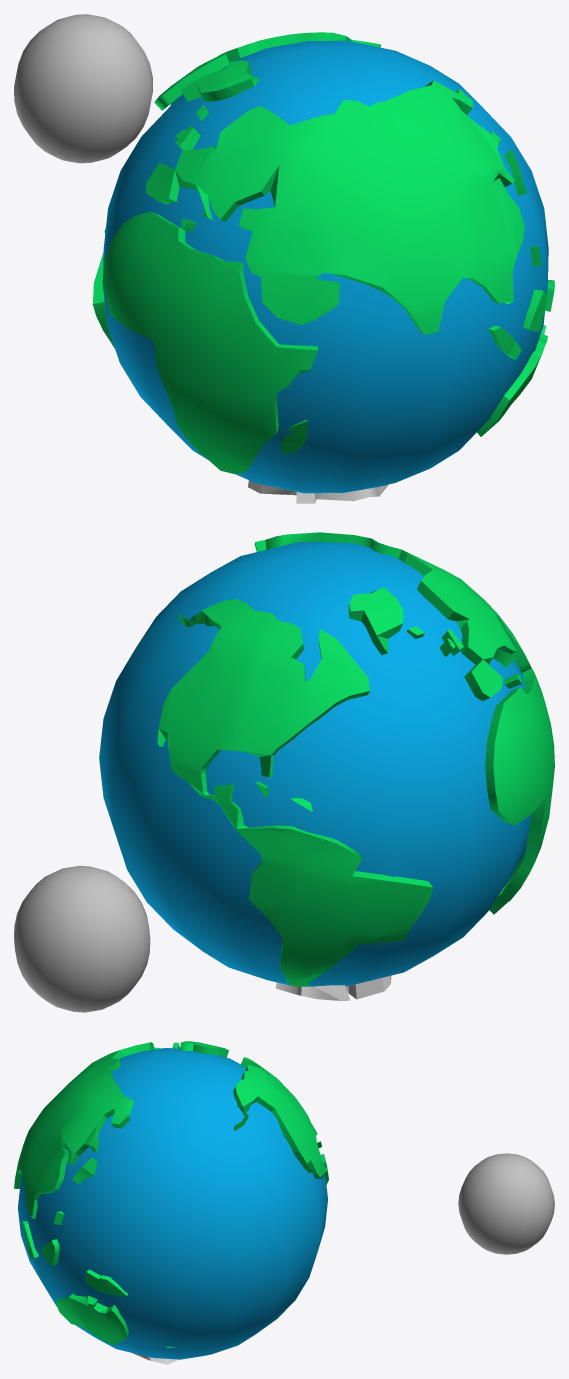
The model's file is mesh_earth.fbx.
3 renders of one model, top to bottom at view 1: azimuth 30°, elevation 25°; view 2: azimuth 150°, elevation 25°; view 3: azimuth 270°, elevation 25°, orthographic. The views are drawn at different scales.
Parts seen in each view (by area): view 1: earthmesh:polySurface68, moon:polySurface11; view 2: earthmesh:polySurface68, moon:polySurface11; view 3: earthmesh:polySurface68, moon:polySurface11.
Boxes of the visible parts, left/top/right/bottom form: earthmesh:polySurface68: left=92, top=32, right=554, bottom=503; moon:polySurface11: left=14, top=14, right=152, bottom=163; earthmesh:polySurface68: left=99, top=532, right=554, bottom=1000; moon:polySurface11: left=14, top=865, right=150, bottom=1012; earthmesh:polySurface68: left=14, top=1041, right=328, bottom=1364; moon:polySurface11: left=458, top=1153, right=554, bottom=1254.
Bounding box in the file's own units: 2.16 × 2.14 × 3.64.
